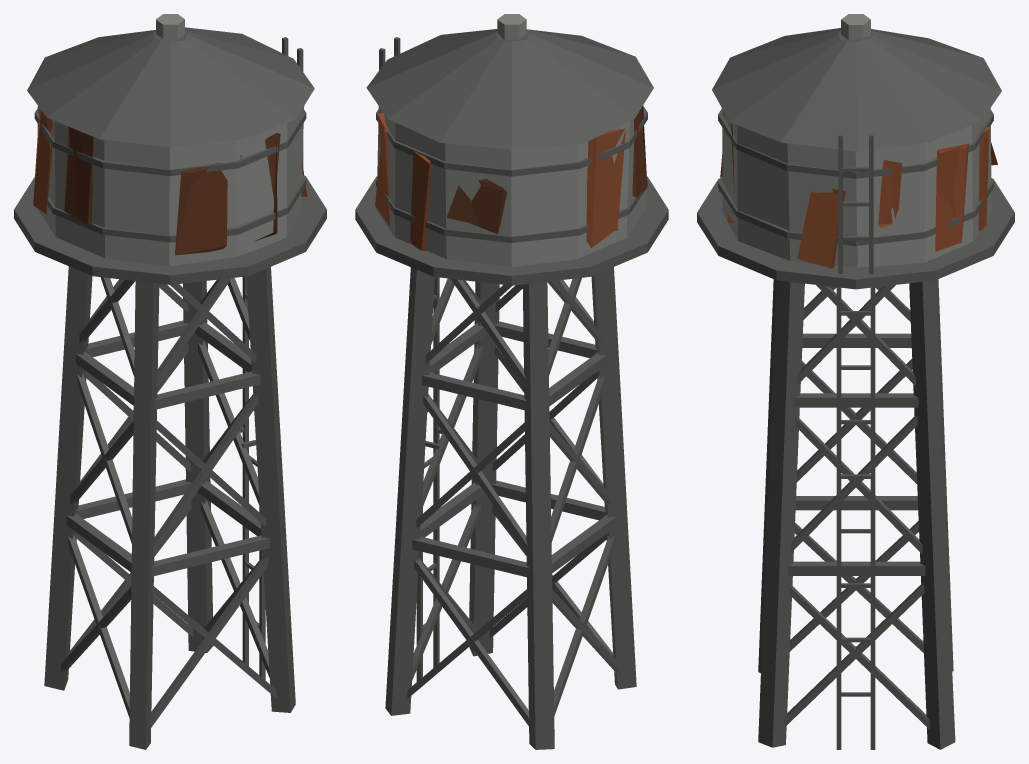
The model's file is water_tower.glb.
3 renders of one model, left to right at view 1: azimuth 30°, elevation 25°; view 2: azimuth 150°, elevation 25°; view 3: azimuth 270°, elevation 25°, orthographic.
Visible parts, largest first — view 1: water_tower; view 2: water_tower; view 3: water_tower.
Boxes of the visible parts, x1,y1,x2,y2 form: water_tower: (14, 14, 326, 749); water_tower: (355, 14, 668, 749); water_tower: (697, 14, 1014, 749).
Size of the model in its own units: 4.7 by 11.26 by 4.7.
